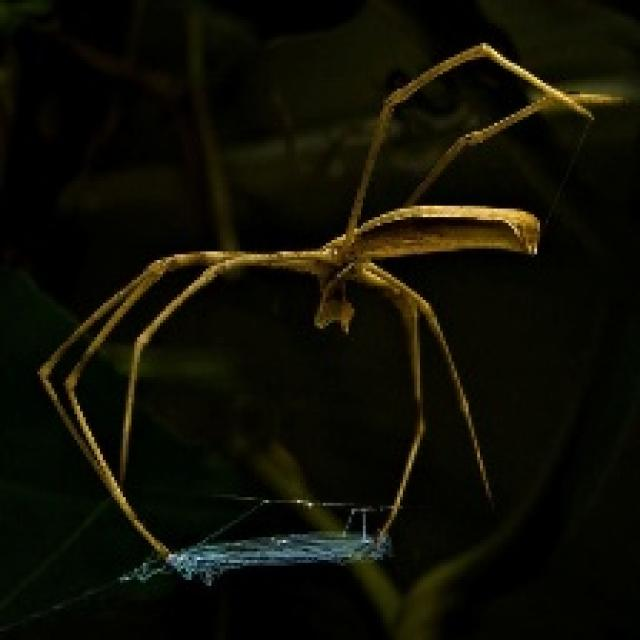Non venomous spider: (34, 64, 635, 630)
